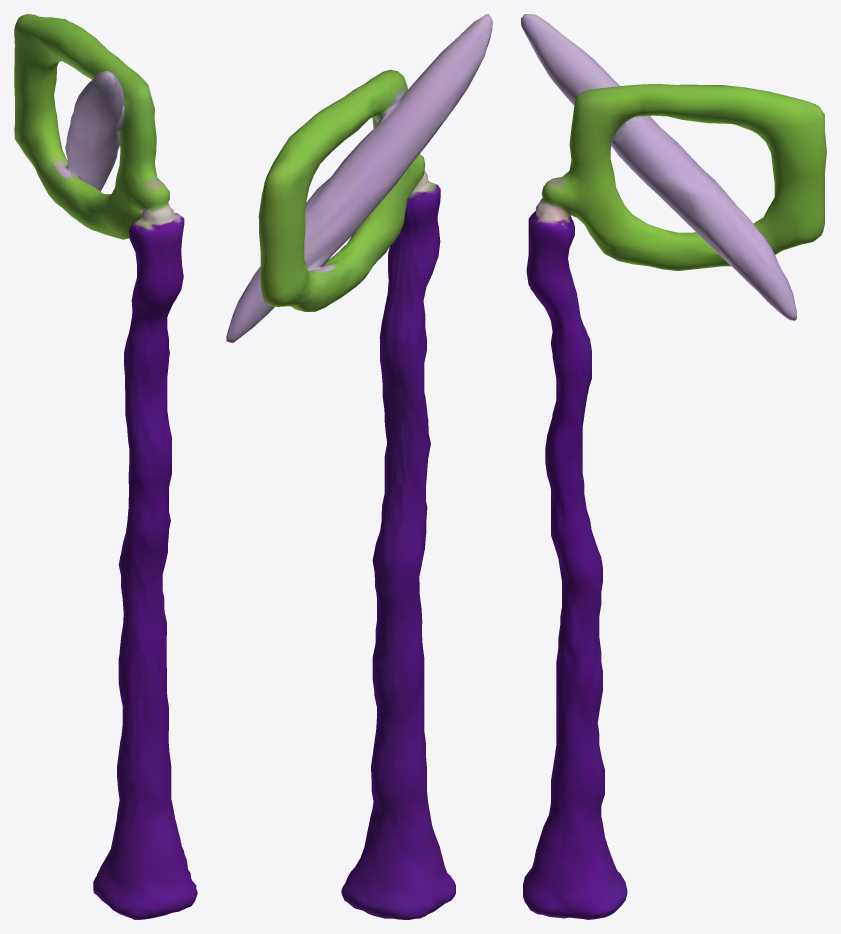
File: 40b0a078-1c7b-4138-a562-74b8ef02fbca.glb
The picture shows the model from 3 angles, left to right: view 1: azimuth 30°, elevation 25°; view 2: azimuth 150°, elevation 25°; view 3: azimuth 270°, elevation 25°; orthographic projection. The views are drawn at different scales.
Visible parts, largest first — view 1: tripo_node_5dc496fc-e5b9-4002-adf4-5ed4a170ee93; view 2: tripo_node_5dc496fc-e5b9-4002-adf4-5ed4a170ee93; view 3: tripo_node_5dc496fc-e5b9-4002-adf4-5ed4a170ee93.
Boxes of the visible parts, x1=… form: tripo_node_5dc496fc-e5b9-4002-adf4-5ed4a170ee93: x1=14, y1=14, x2=197, y2=919; tripo_node_5dc496fc-e5b9-4002-adf4-5ed4a170ee93: x1=226, y1=14, x2=492, y2=919; tripo_node_5dc496fc-e5b9-4002-adf4-5ed4a170ee93: x1=521, y1=14, x2=826, y2=919.
Size of the model in its own units: 0.1566 by 1 by 0.3209.
1 material, 1 textured.
